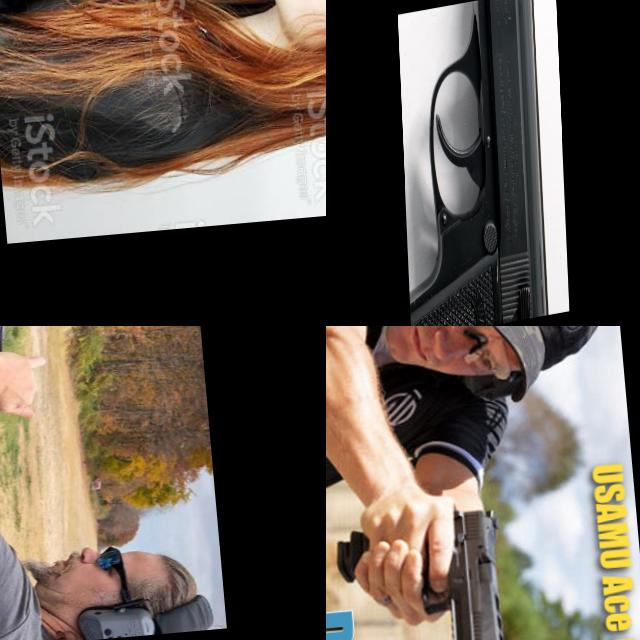handgun: (397, 0, 557, 326), (328, 505, 515, 640), (109, 0, 309, 74), (0, 326, 55, 381)
